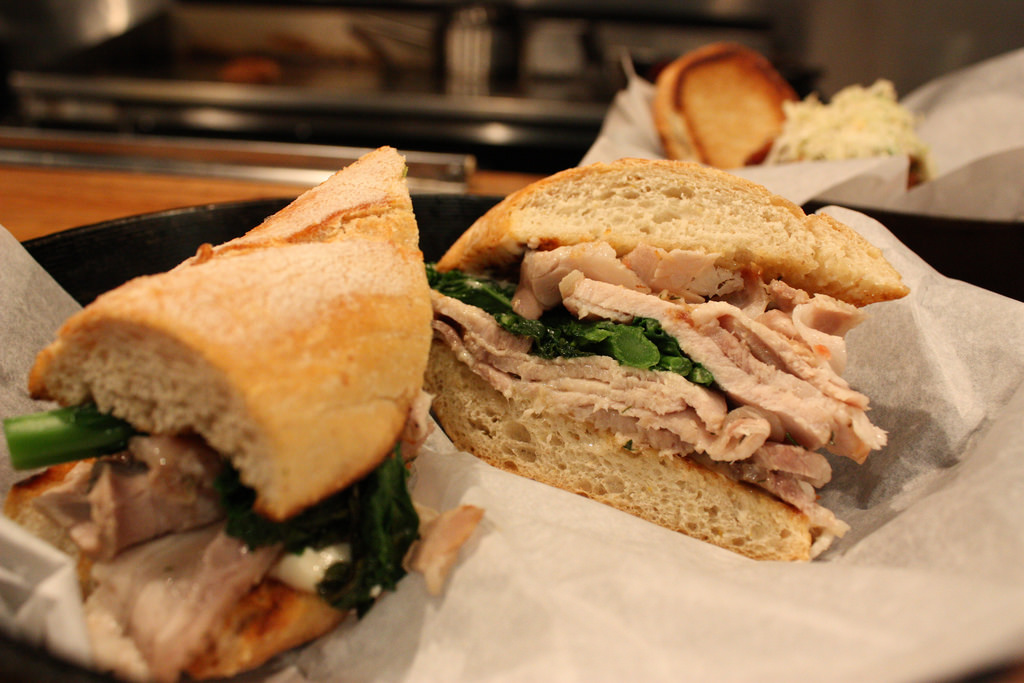slice of bread: (111, 182, 375, 477), (460, 151, 914, 318), (440, 369, 860, 533)
